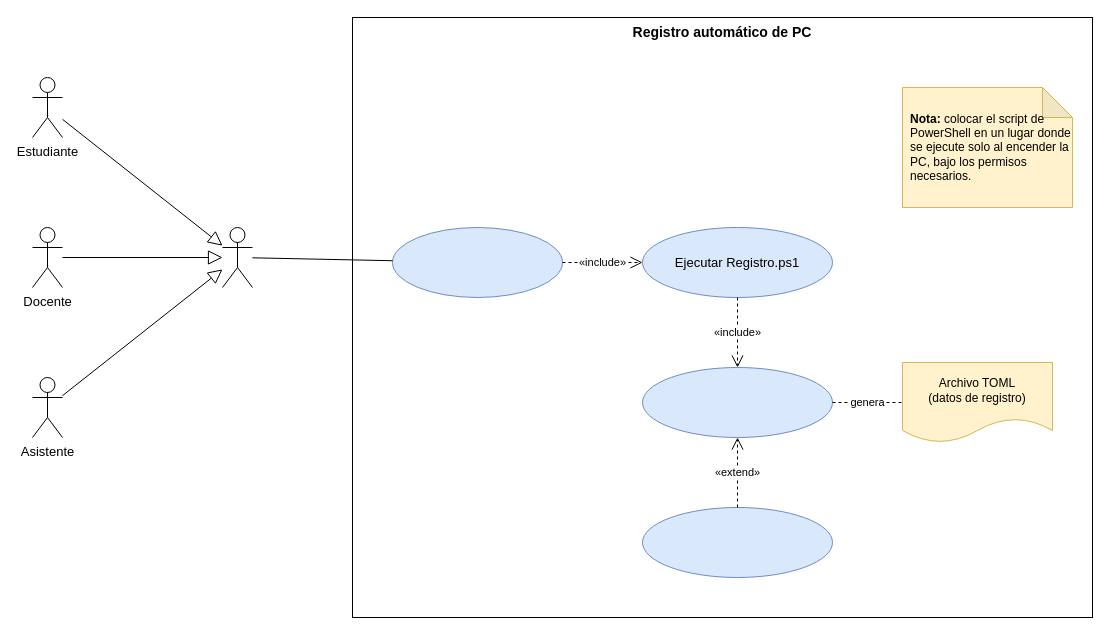
Image size: 1110x635. Some labels were removed from this diagram. The shapes that lost their labels are listed below. From the top down, each one's centre as x and y in pixels, then its label:
At point 237,257: "Usuario".
At point 477,262: "Prender PC".
At point 737,402: "Generar registro".
At point 737,542: "Registrar PC (PHP)".
